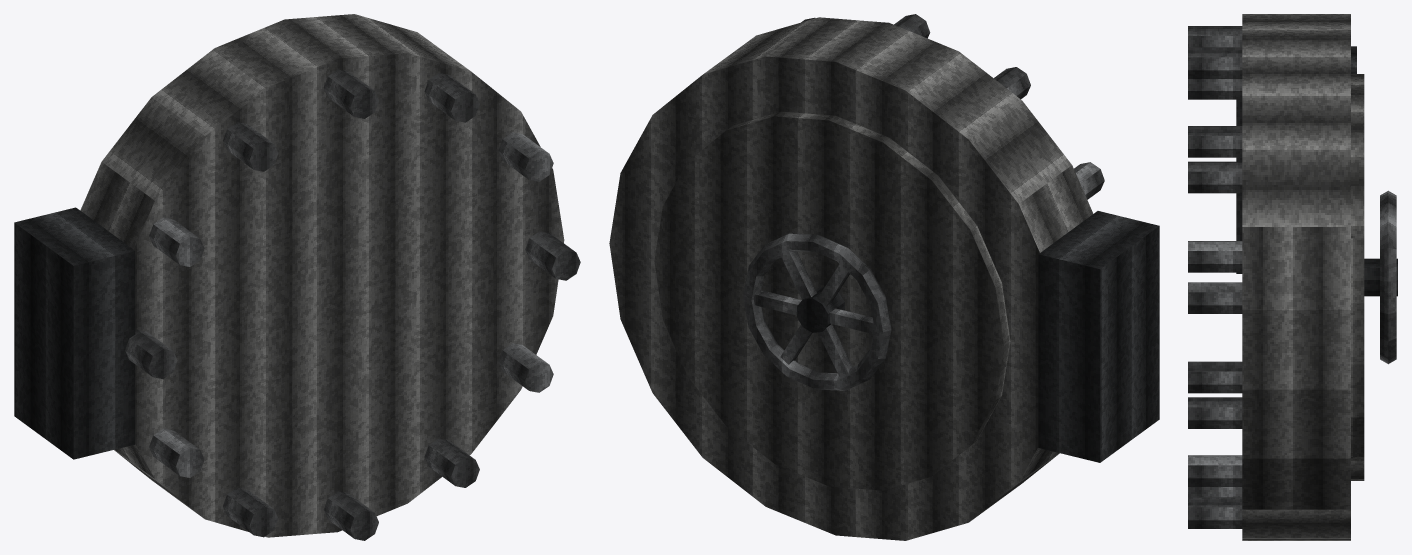
File: vault_door.glb
The picture shows the model from 3 angles, left to right: view 1: azimuth 30°, elevation 25°; view 2: azimuth 150°, elevation 25°; view 3: azimuth 270°, elevation 25°; orthographic projection.
Parts seen in each view (by area): view 1: vault_door; view 2: vault_door; view 3: vault_door.
Boxes of the visible parts, x1,y1,x2,y2 form: vault_door: (14,14,580,540); vault_door: (609,14,1159,540); vault_door: (1188,14,1397,540).
Bounding box in the file's own units: 2.4 × 2.2 × 0.87.
4 materials, 4 textured.
